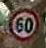limite 60: (6, 7, 39, 41)
